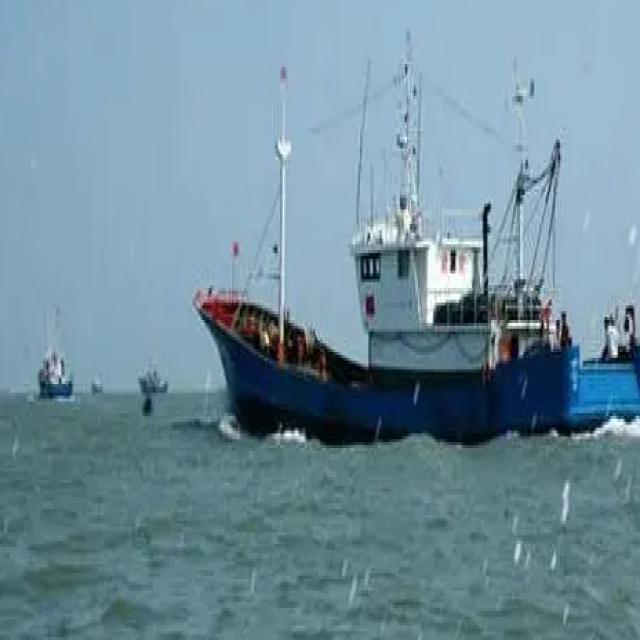fishing boat: (208, 52, 640, 442), (30, 322, 75, 397), (135, 348, 174, 401)
